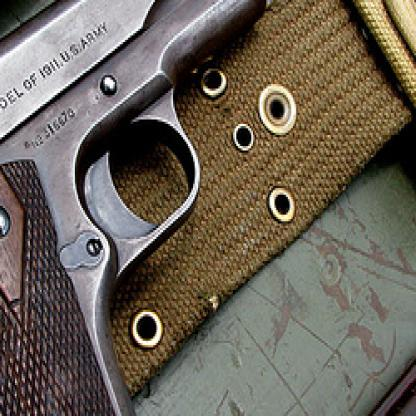gun: (0, 0, 326, 414)
